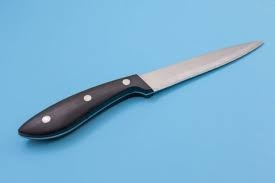knife: (17, 40, 264, 139)
